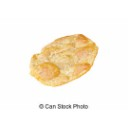poori: (30, 34, 98, 86)
